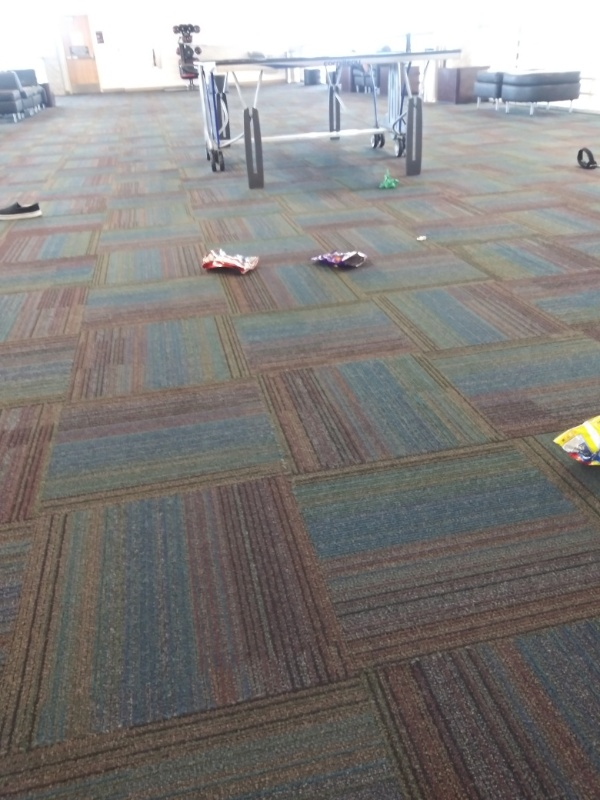bag: (550, 410, 600, 473), (195, 245, 262, 281), (303, 248, 372, 276)
